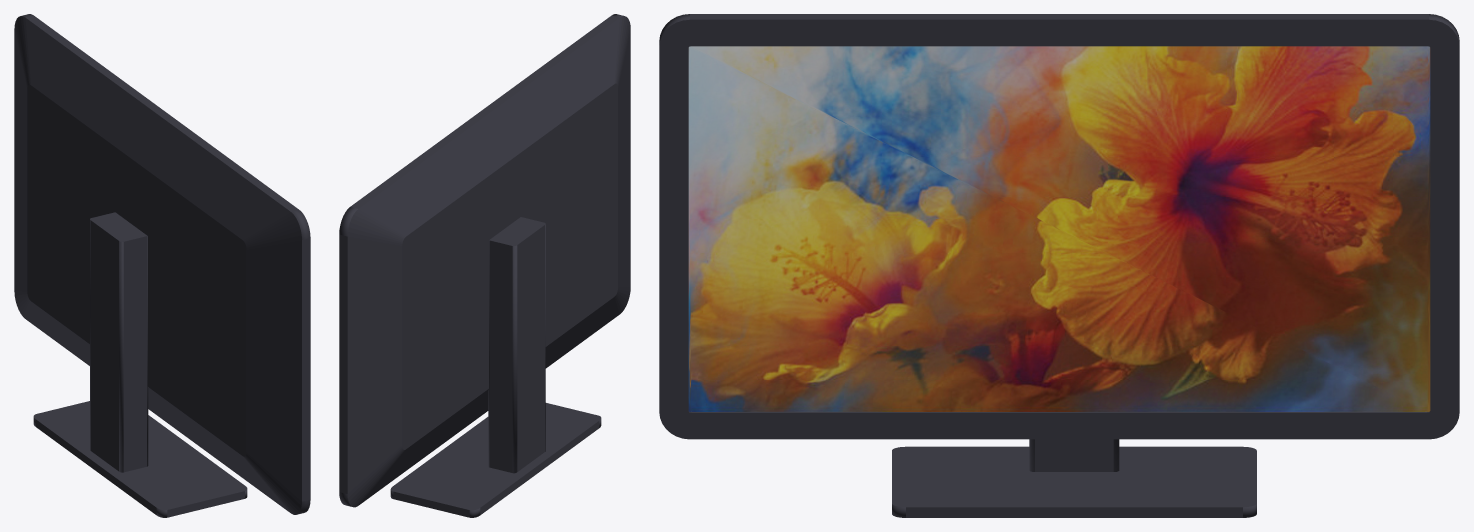
3 views of the same model, side by side, from view 1: azimuth 30°, elevation 25°; view 2: azimuth 150°, elevation 25°; view 3: azimuth 270°, elevation 25° (orthographic). The views are drawn at different scales.
Parts seen in each view (by area): view 1: TV_49_2; view 2: TV_49_2; view 3: TV_49_2.
Boxes of the visible parts, bbox=[...] form: TV_49_2: bbox=[14, 14, 310, 517]; TV_49_2: bbox=[339, 14, 630, 517]; TV_49_2: bbox=[659, 14, 1459, 517].
Size of the model in its own units: 0.1992 by 1.12 by 0.7413.
Materials: 3 (3 with a texture image).
